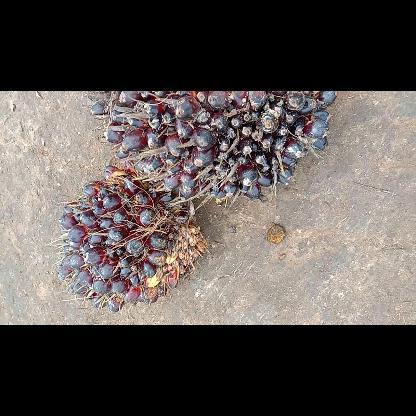TBS mentah: (87, 92, 335, 204), (56, 166, 212, 312)
